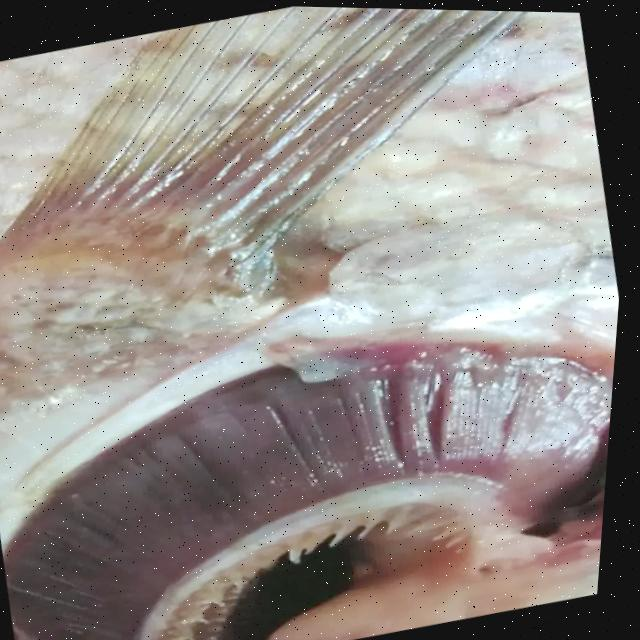Non-Fresh: (0, 283, 624, 640)
